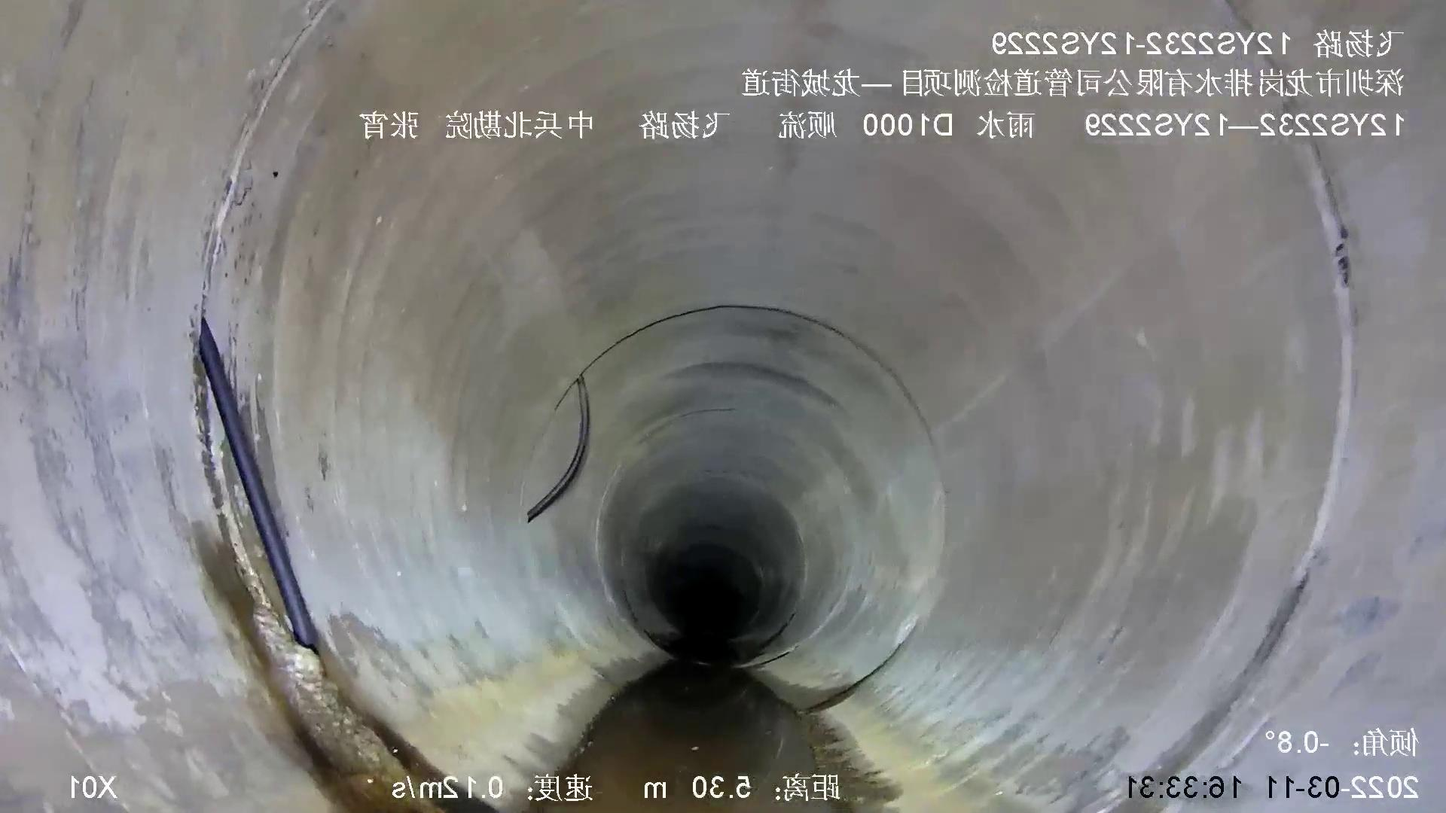YWCR: (200, 320, 319, 650), (528, 375, 591, 522)
